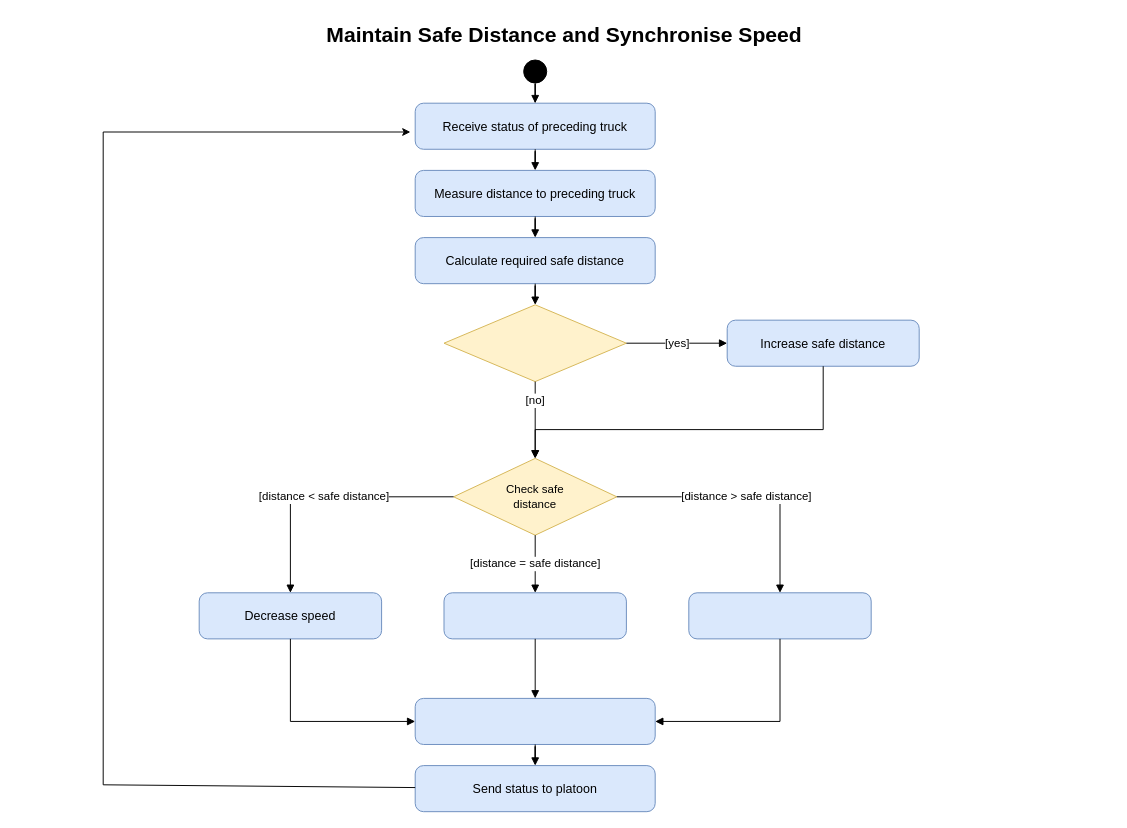
The diagram is 1127 pixels wide and 828 high, and some of its shapes have lost their labels. Each missing label, with the box of its shape:
Increase speed: (688, 592, 871, 639)
Maintain speed: (443, 592, 626, 639)
Synchronise speed with preceding truck: (414, 697, 655, 744)
vehicle detected between trucks?: (443, 304, 626, 382)
